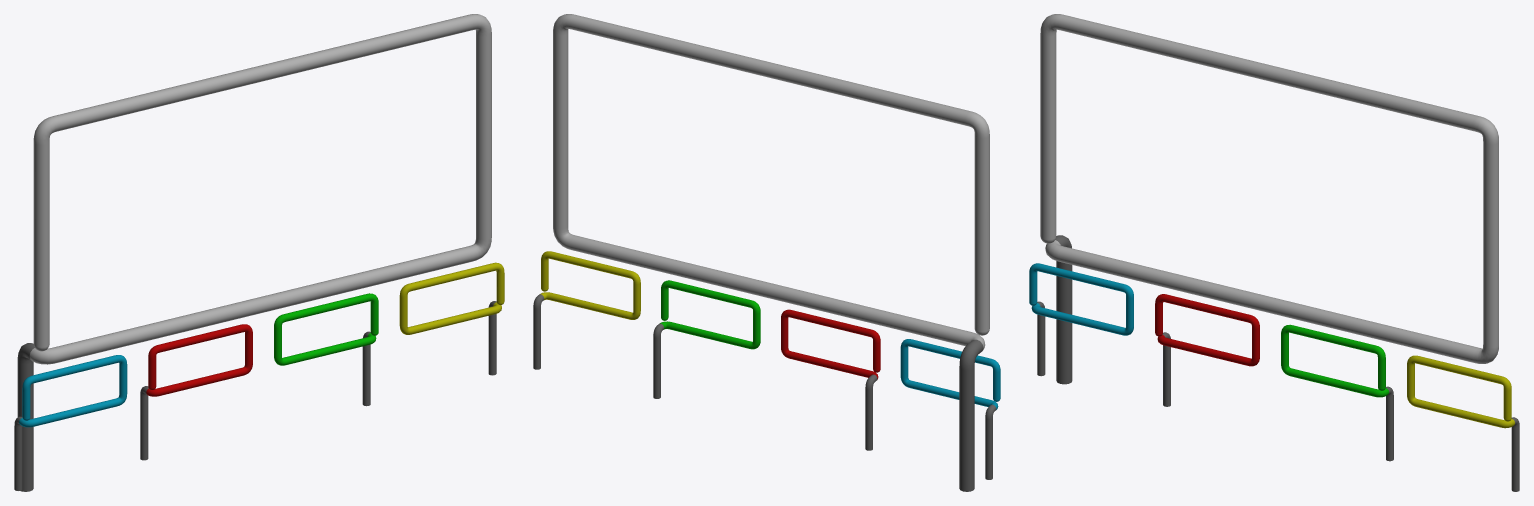
The model's file is Perimeter_v2.fbx.
3 renders of one model, left to right at view 1: azimuth 30°, elevation 25°; view 2: azimuth 150°, elevation 25°; view 3: azimuth 330°, elevation 25°, orthographic. The views are drawn at different scales.
Visible parts, largest first — view 1: Perimeter_v2, Perimeter_v2_P1, Perimeter_v2_P2, Perimeter_v2_P4, Perimeter_v2_P3; view 2: Perimeter_v2, Perimeter_v2_P4, Perimeter_v2_P3, Perimeter_v2_P2, Perimeter_v2_P1; view 3: Perimeter_v2, Perimeter_v2_P4, Perimeter_v2_P3, Perimeter_v2_P1, Perimeter_v2_P2.
Part boxes in pixels (x1,y1,x2,y2): Perimeter_v2: [17, 14, 491, 491]; Perimeter_v2_P1: [14, 355, 127, 490]; Perimeter_v2_P2: [140, 324, 252, 460]; Perimeter_v2_P4: [399, 262, 504, 375]; Perimeter_v2_P3: [274, 293, 378, 406]; Perimeter_v2: [553, 14, 989, 491]; Perimeter_v2_P4: [533, 251, 640, 369]; Perimeter_v2_P3: [653, 280, 760, 398]; Perimeter_v2_P2: [781, 309, 880, 450]; Perimeter_v2_P1: [900, 339, 1000, 479]; Perimeter_v2: [1040, 14, 1498, 384]; Perimeter_v2_P4: [1407, 355, 1519, 491]; Perimeter_v2_P3: [1281, 324, 1393, 461]; Perimeter_v2_P1: [1029, 263, 1133, 376]; Perimeter_v2_P2: [1155, 294, 1259, 406].
Bounding box in the file's own units: 3480 × 2630 × 300.
